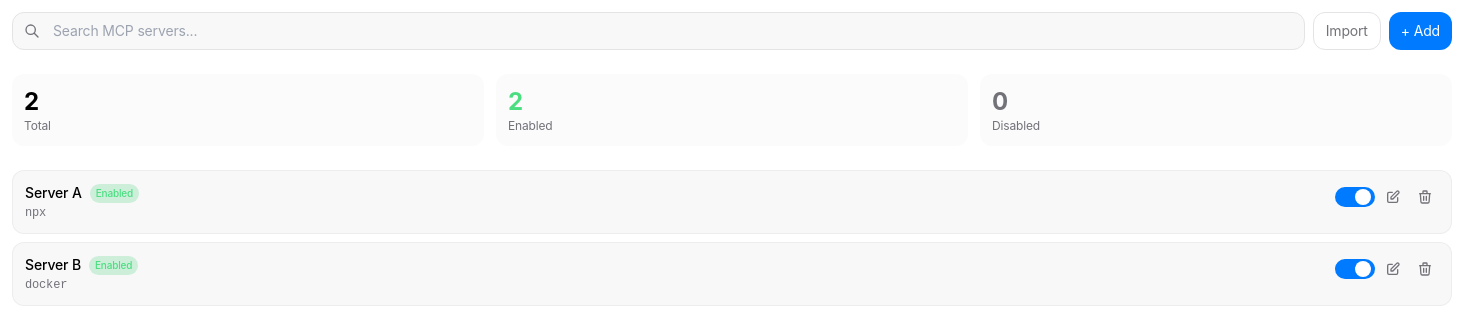
McpServerSettings › searches by command as well
Type "docker" into the field with placeholder "Search MCP servers..." at (658, 31), box [12,12,1305,50]
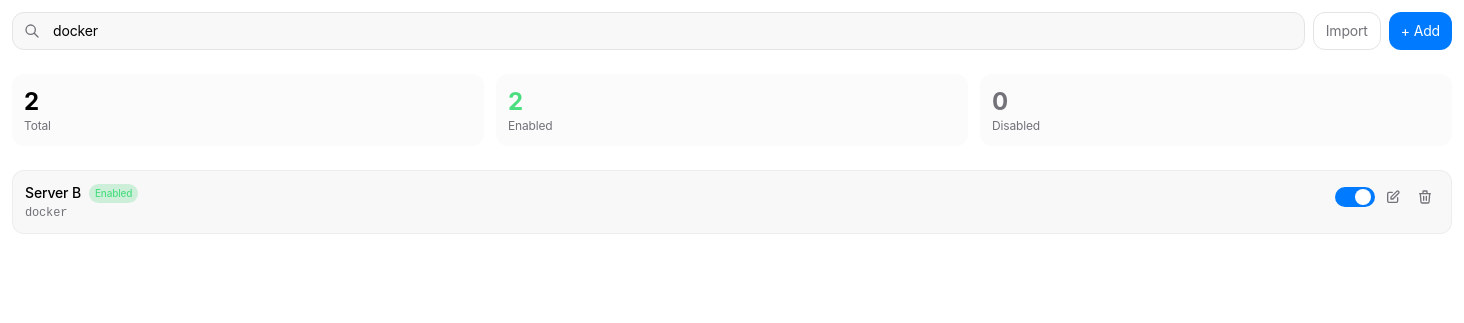
Expected: the text "Server B" is shown, [25,183,81,203]
Now the text "Server A" is gone
